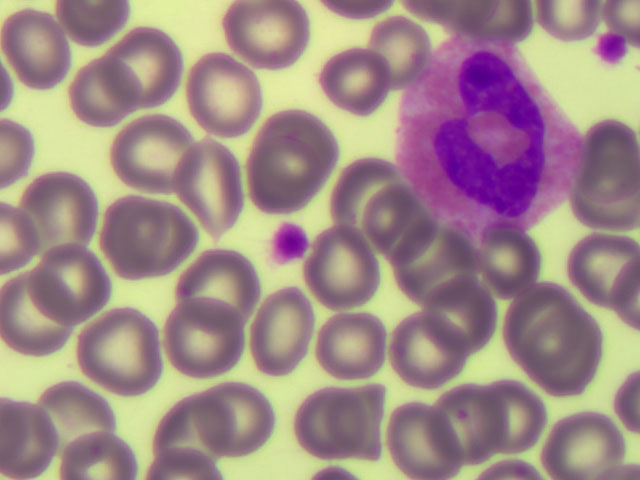Platelets: (276, 224, 304, 262), (598, 32, 624, 62)
RBC: (78, 308, 165, 394), (32, 383, 120, 463), (106, 196, 191, 276), (527, 304, 600, 397), (16, 176, 95, 258), (172, 248, 255, 324), (259, 111, 338, 190), (116, 117, 194, 197), (181, 135, 243, 231), (166, 302, 245, 377), (331, 163, 405, 243), (396, 231, 473, 307), (508, 284, 578, 367), (225, 1, 311, 67), (105, 32, 180, 107), (432, 386, 506, 462), (1, 275, 71, 355), (309, 227, 379, 307), (28, 252, 105, 324), (389, 405, 462, 480), (252, 286, 310, 380), (187, 56, 255, 135), (249, 140, 321, 213), (199, 386, 274, 456), (157, 397, 235, 464), (424, 283, 494, 356), (1, 13, 70, 87), (544, 414, 623, 478), (570, 230, 640, 302), (585, 116, 640, 205), (478, 380, 543, 455), (317, 51, 392, 116), (394, 315, 463, 385), (369, 187, 436, 259), (316, 314, 389, 380), (71, 62, 135, 131), (302, 391, 367, 457), (332, 388, 389, 463), (2, 398, 53, 480), (575, 167, 640, 228), (370, 17, 424, 87), (59, 432, 137, 480), (484, 232, 538, 299), (58, 1, 129, 48), (467, 1, 535, 47), (1, 201, 41, 273), (1, 118, 41, 190), (608, 255, 640, 329), (148, 451, 222, 480), (537, 1, 600, 35), (432, 1, 495, 25), (611, 2, 640, 34)
WBC: (405, 45, 568, 224)
